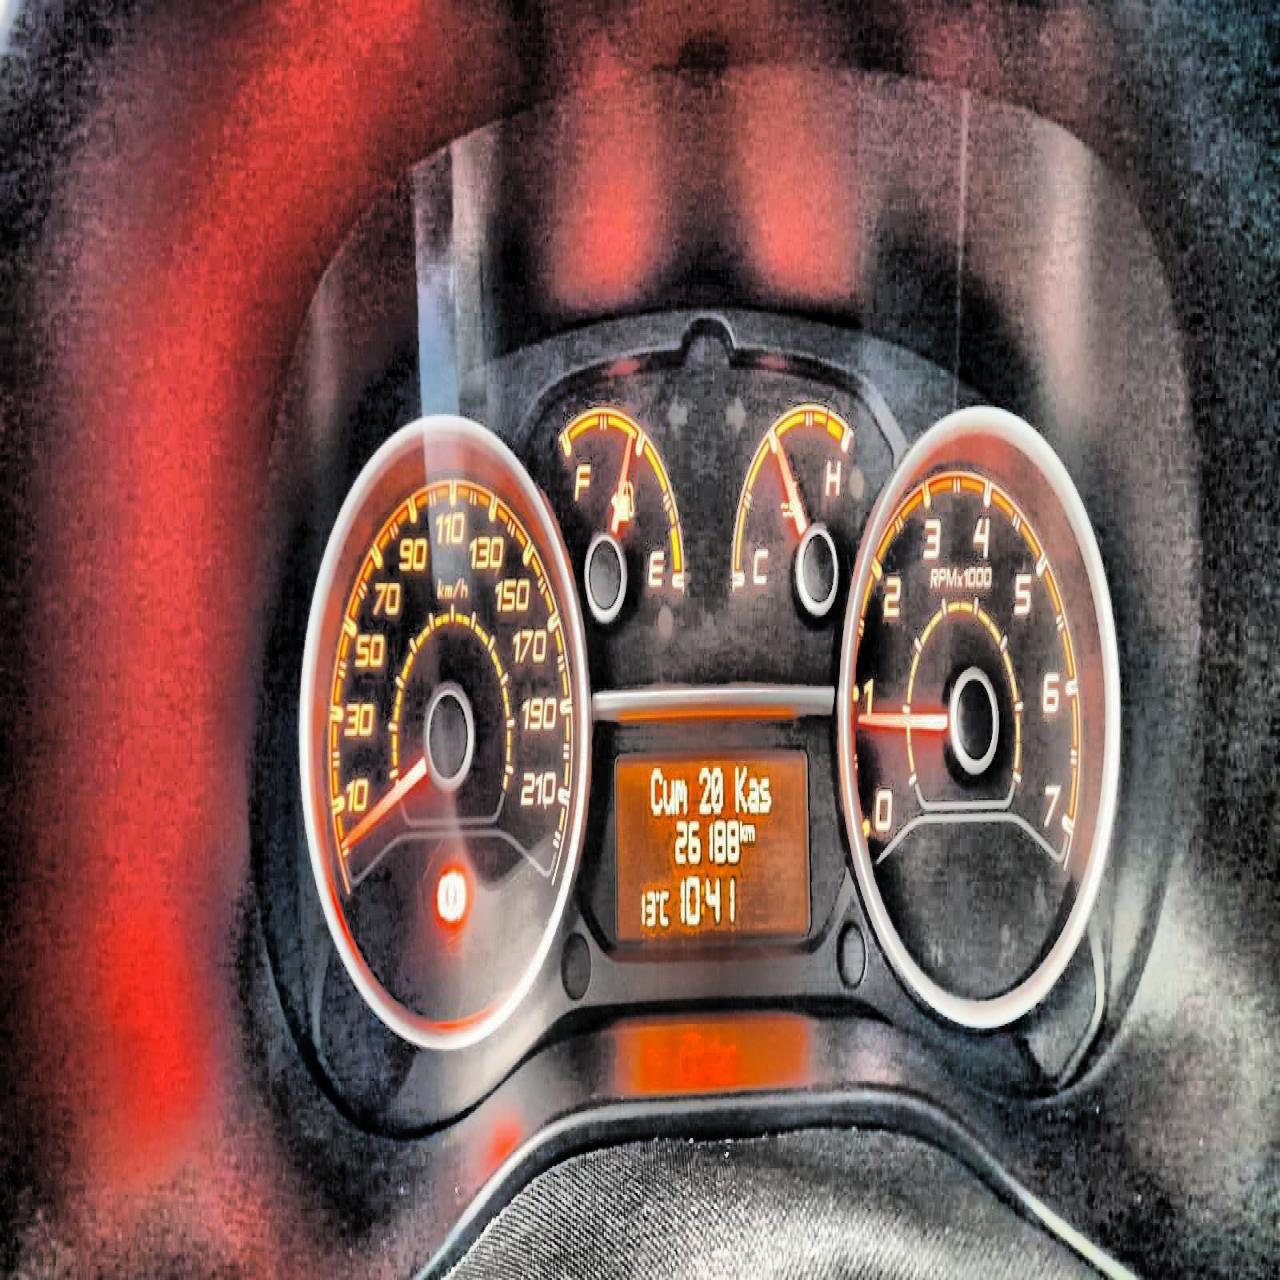0: (686, 873, 700, 925), (710, 764, 723, 815)
1: (728, 874, 735, 925), (707, 819, 714, 860), (679, 877, 685, 925), (640, 887, 646, 928), (640, 891, 645, 925)
2: (697, 764, 710, 812), (674, 818, 687, 864)
3: (646, 888, 655, 926)
4: (704, 874, 721, 925)
6: (687, 818, 701, 864)
8: (713, 818, 727, 863), (727, 816, 740, 862)
X: (649, 764, 662, 815), (735, 763, 748, 812), (674, 778, 688, 816), (748, 775, 760, 813), (662, 777, 674, 815), (760, 775, 771, 812), (659, 887, 669, 926), (745, 822, 755, 843), (740, 818, 745, 840)
odometer: (611, 743, 812, 946)
